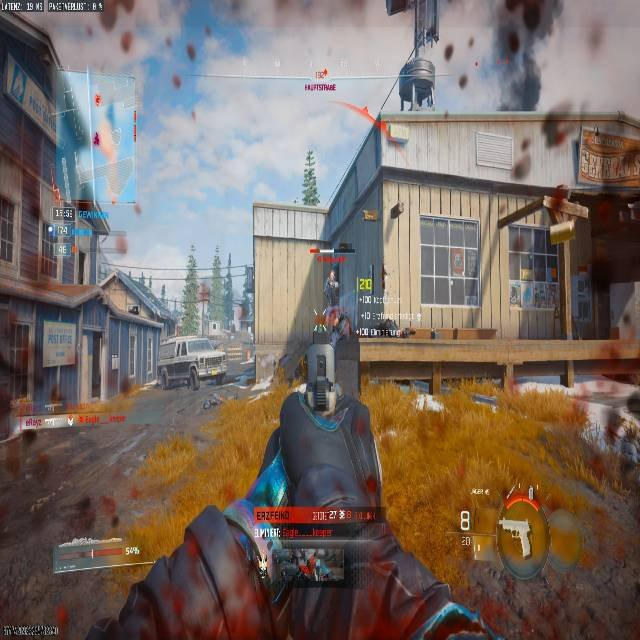head: (329, 270, 336, 280)
player: (323, 270, 340, 320)
